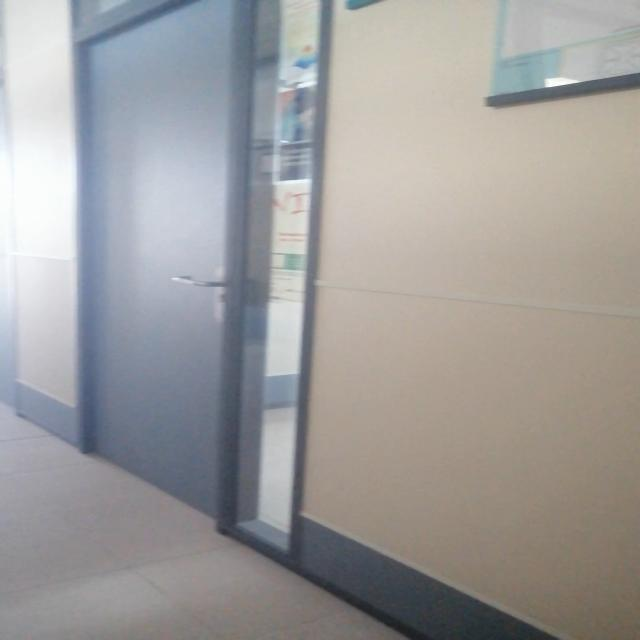door_handle: (165, 271, 230, 290)
